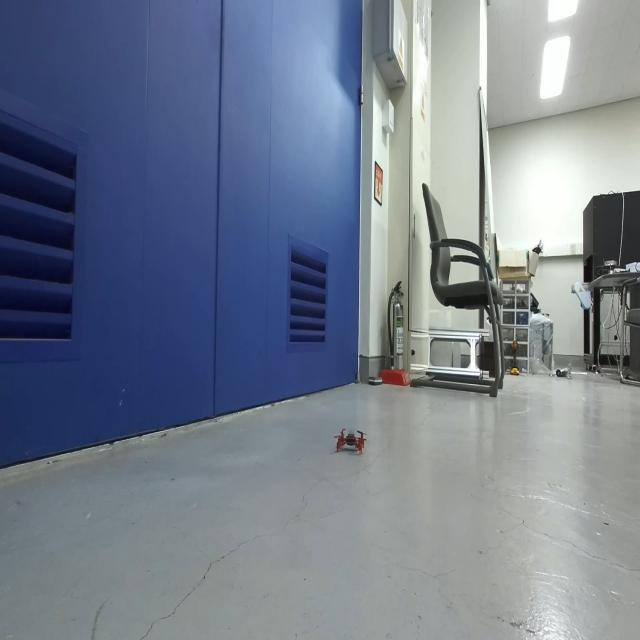crazyflie: (331, 422, 368, 457)
